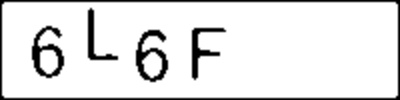6: (132, 25, 175, 87), (29, 23, 68, 82)
F: (187, 23, 226, 82)
L: (83, 3, 126, 64)
